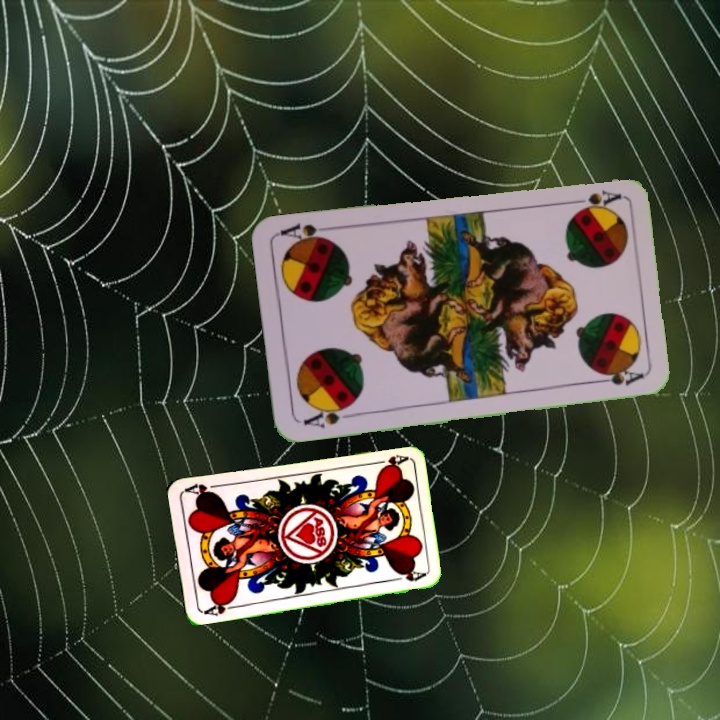HA: (200, 595, 240, 618), (368, 451, 409, 472)
SA: (299, 400, 357, 431), (563, 185, 623, 213)
